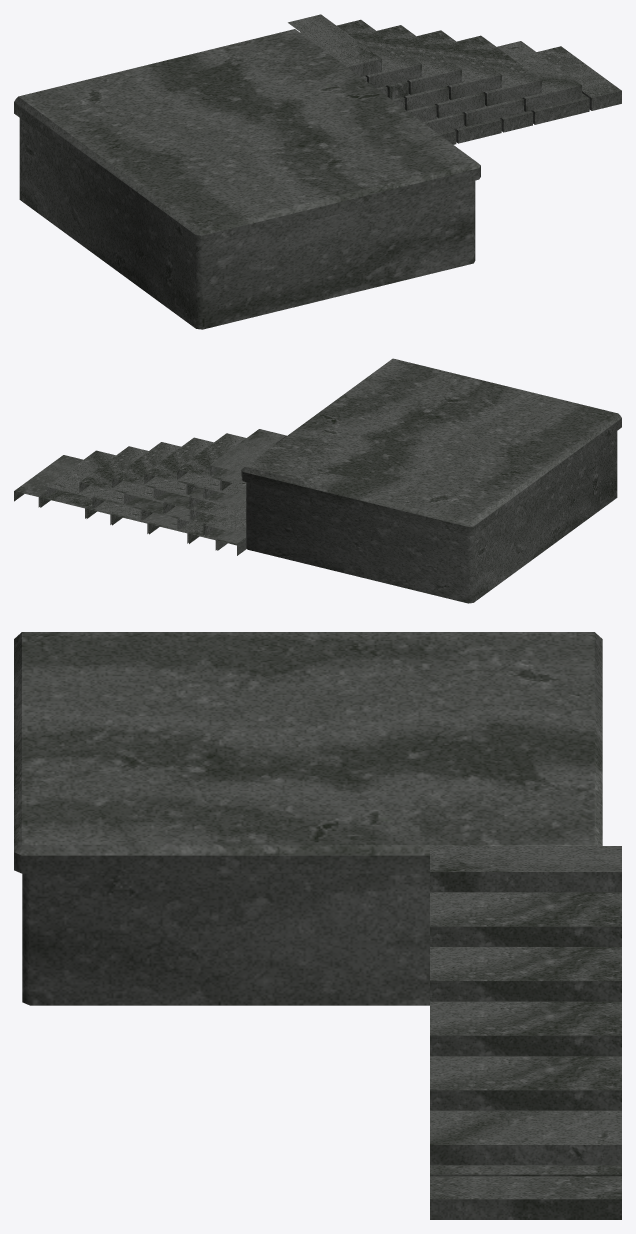
The model's file is L2_lestnica_postament.fbx.
3 renders of one model, top to bottom at view 1: azimuth 30°, elevation 25°; view 2: azimuth 150°, elevation 25°; view 3: azimuth 270°, elevation 25°, orthographic. The views are drawn at different scales.
Visible parts, largest first — view 1: Postament, Lestnica; view 2: Postament, Lestnica; view 3: Postament, Lestnica.
Part boxes in pixels (<box>): Postament: <box>14,29,480,329</box>; Lestnica: <box>288,14,621,144</box>; Postament: <box>241,358,621,603</box>; Lestnica: <box>14,429,286,555</box>; Postament: <box>14,632,602,1005</box>; Lestnica: <box>430,846,621,1219</box>.
Size of the model in its own units: 588 by 105 by 353.
1 material, 1 textured.
